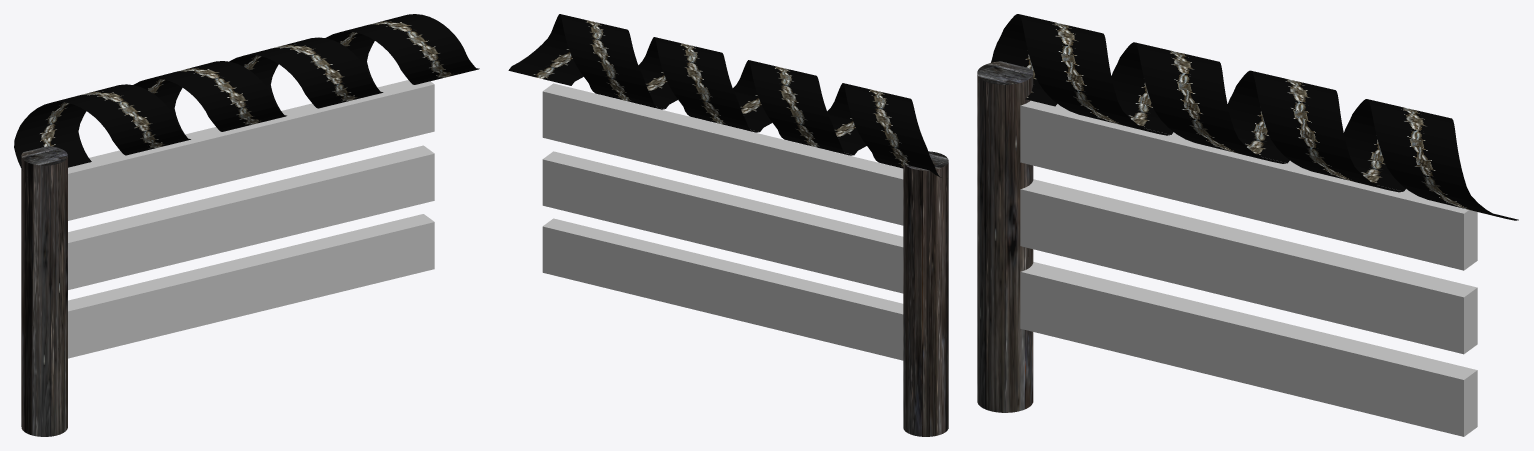
The model's file is Fence with barbed wire.fbx.
The picture shows the model from 3 angles, left to right: view 1: azimuth 30°, elevation 25°; view 2: azimuth 150°, elevation 25°; view 3: azimuth 330°, elevation 25°; orthographic projection. The views are drawn at different scales.
Visible parts, largest first — view 1: Half Fence.023, BarbedWire.011; view 2: Half Fence.023, BarbedWire.011; view 3: Half Fence.023, BarbedWire.011.
Boxes of the visible parts, bbox=[...] form: Half Fence.023: bbox=[21, 80, 434, 436]; BarbedWire.011: bbox=[14, 14, 479, 177]; Half Fence.023: bbox=[542, 83, 948, 436]; BarbedWire.011: bbox=[508, 14, 941, 177]; Half Fence.023: bbox=[977, 61, 1477, 436]; BarbedWire.011: bbox=[991, 14, 1518, 220].
Bounding box in the file's own units: 1002 × 690 × 127.
